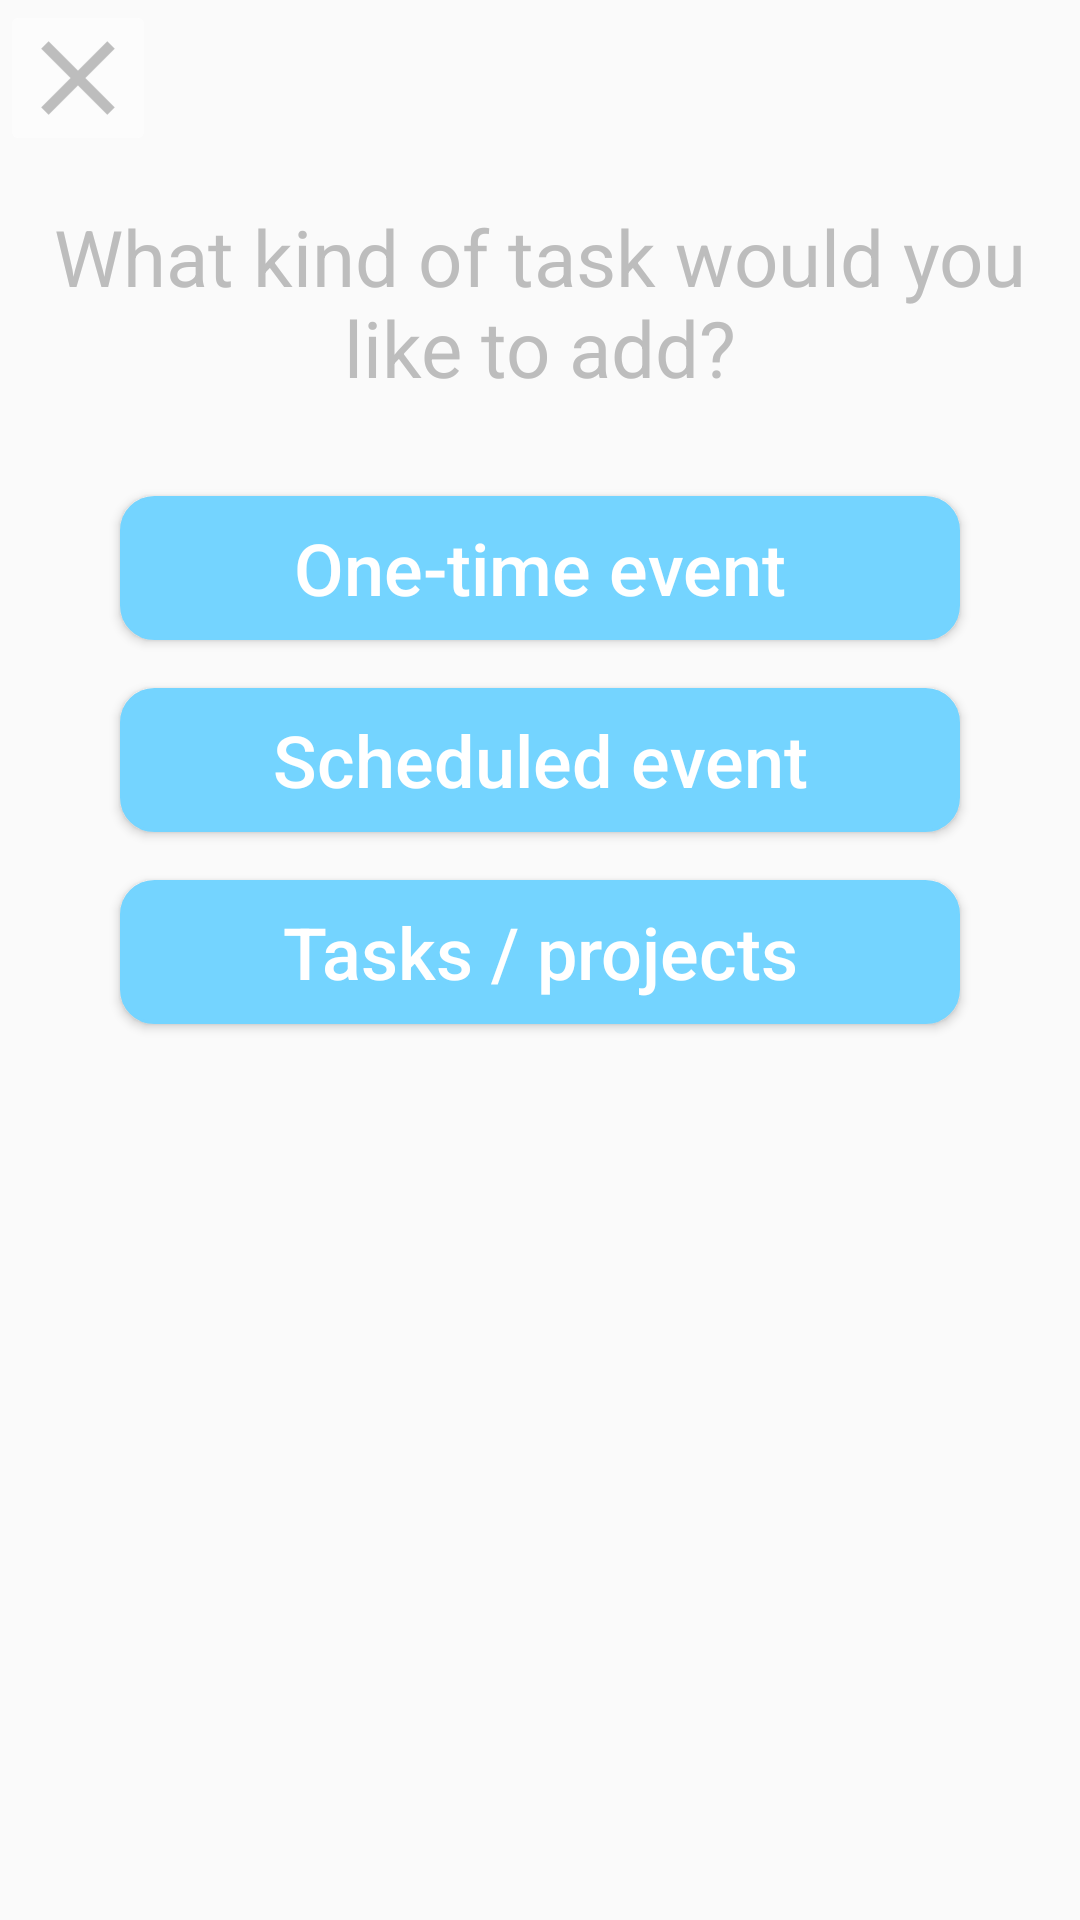

Named icons in this screenshot (1080w x 1920h) and their bounding boxes, (left=x1, top=y1, right=x2, bottom=y2):
closeimage: (left=41, top=41, right=115, bottom=115)
